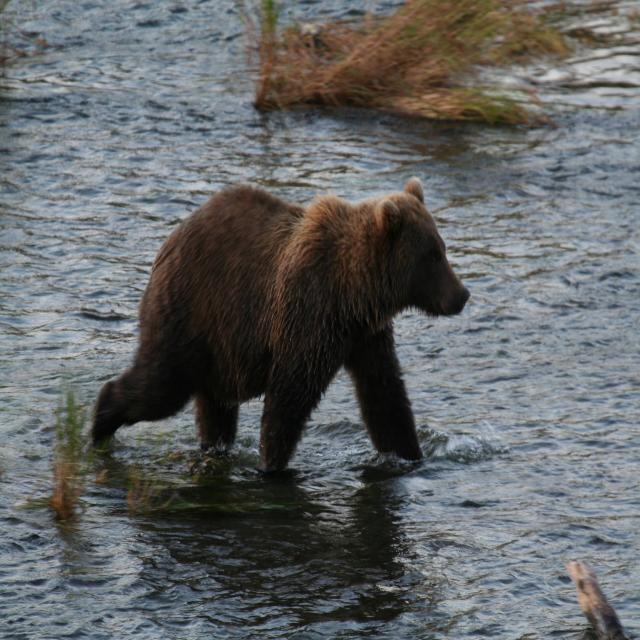bear face: (93, 177, 471, 458)
